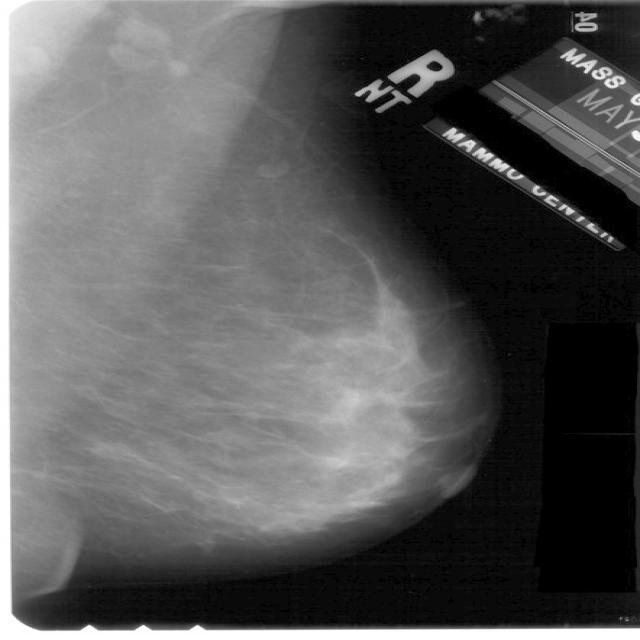tumour: (339, 388, 371, 409)
